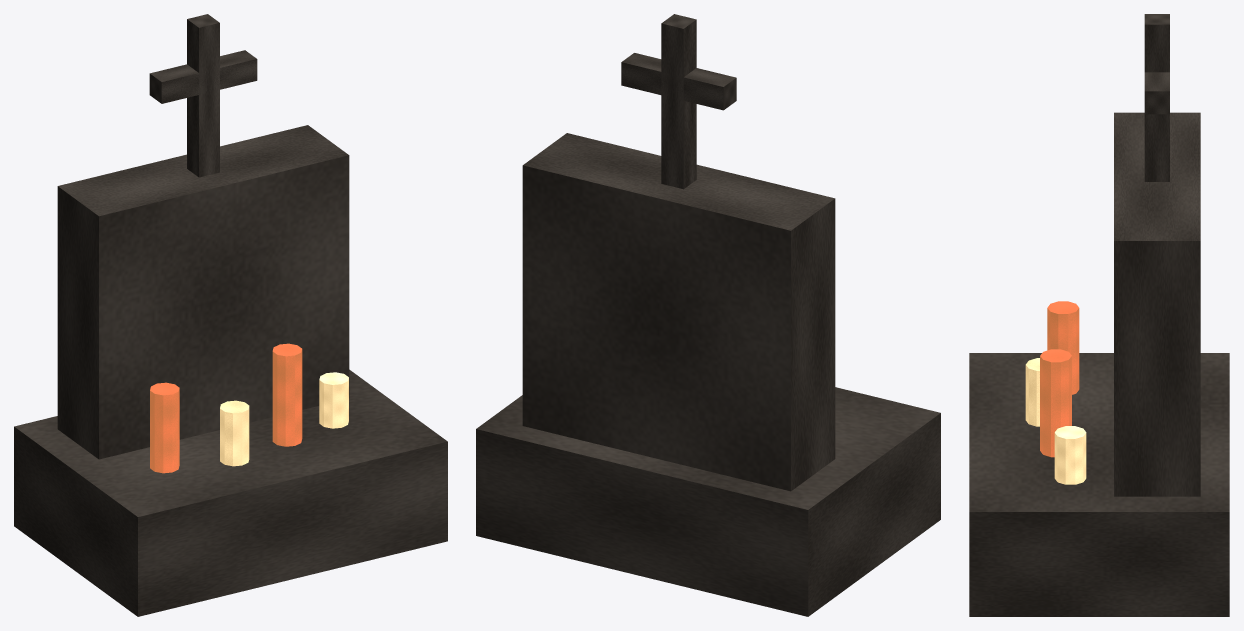
File: street_shrine_velas_1k.gltf
3 renders of one model, left to right at view 1: azimuth 30°, elevation 25°; view 2: azimuth 150°, elevation 25°; view 3: azimuth 270°, elevation 25°, orthographic. The views are drawn at different scales.
Parts seen in each view (by area): view 1: street_shrine_velas; view 2: street_shrine_velas; view 3: street_shrine_velas.
Boxes of the visible parts, bbox=[...] form: street_shrine_velas: bbox=[14, 14, 447, 616]; street_shrine_velas: bbox=[476, 14, 940, 616]; street_shrine_velas: bbox=[969, 14, 1229, 616].
Size of the model in its own units: 0.52 by 0.79 by 0.36.
Materials: 3 (3 with a texture image).
